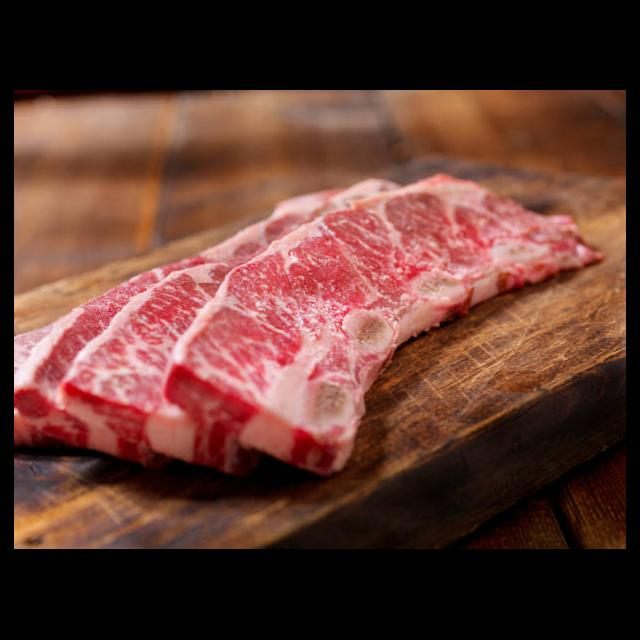beef: (15, 172, 605, 478)
